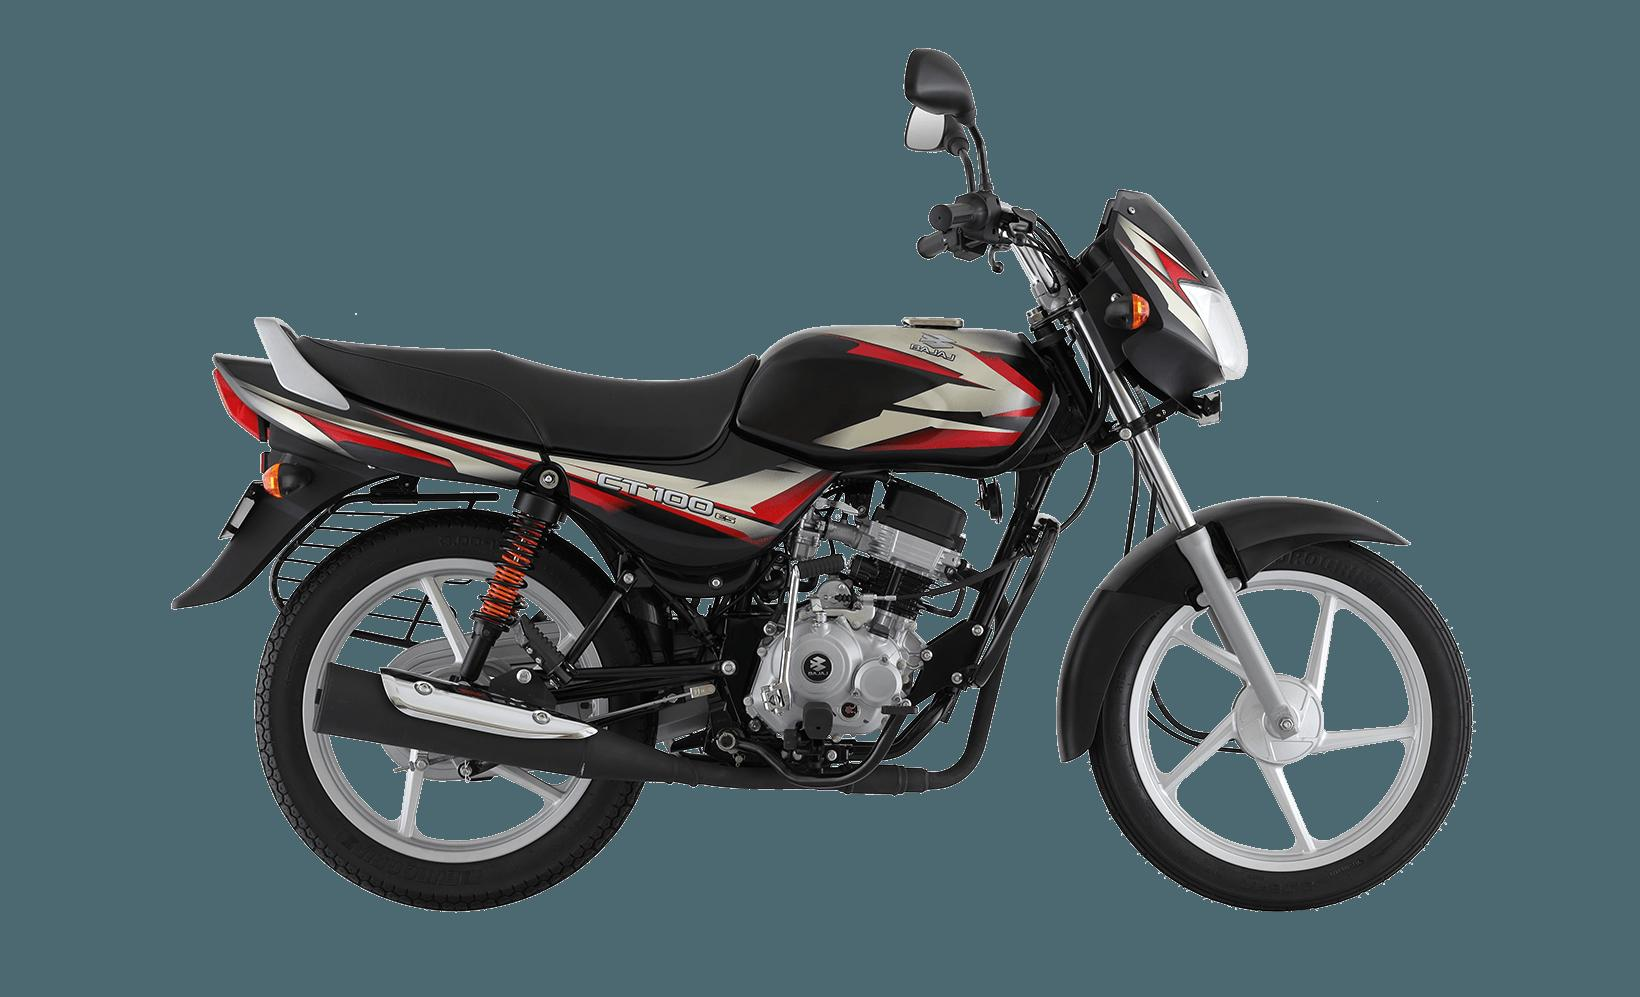motorbike: (171, 47, 1470, 911)
